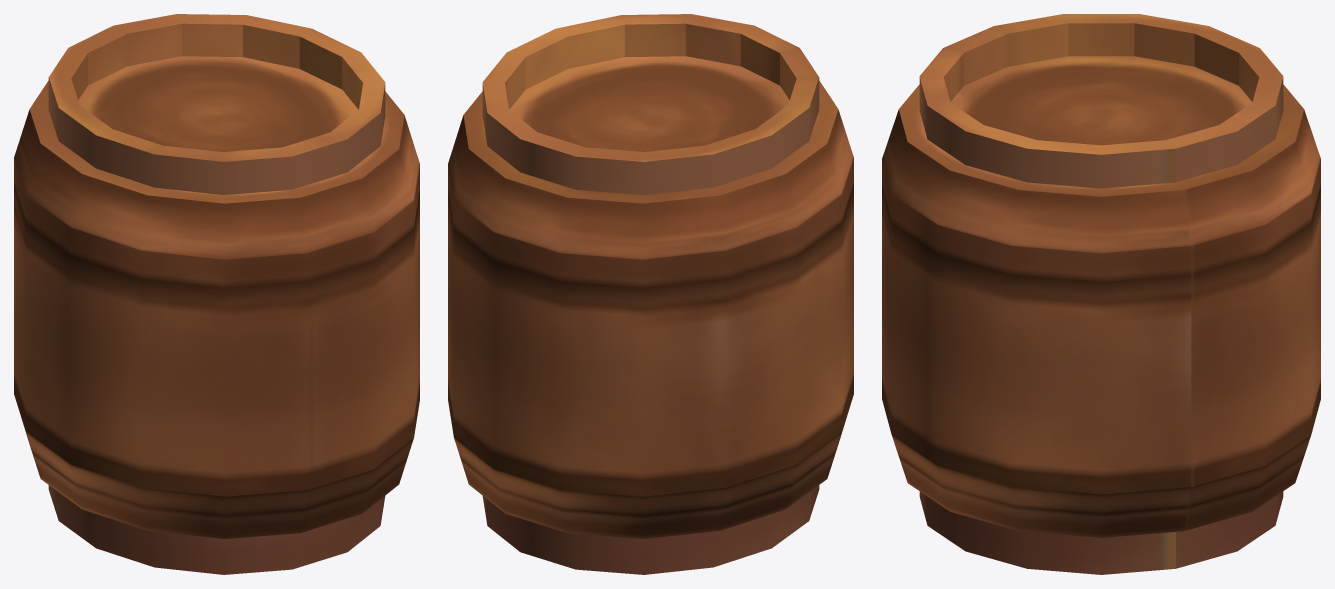
Rendered from mulan_02.fbx.
3 renders of one model, left to right at view 1: azimuth 30°, elevation 25°; view 2: azimuth 150°, elevation 25°; view 3: azimuth 270°, elevation 25°, orthographic.
Parts seen in each view (by area): view 1: mulan_01; view 2: mulan_01; view 3: mulan_01.
Part boxes in pixels (<box>): mulan_01: <box>14,14,419,574</box>; mulan_01: <box>448,14,853,574</box>; mulan_01: <box>882,14,1320,574</box>.
Size of the model in its own units: 76.46 by 88.2 by 83.48.
